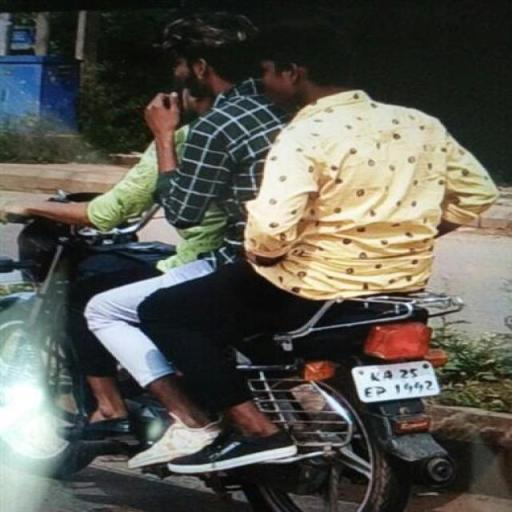tripple riding: (20, 5, 496, 289)
